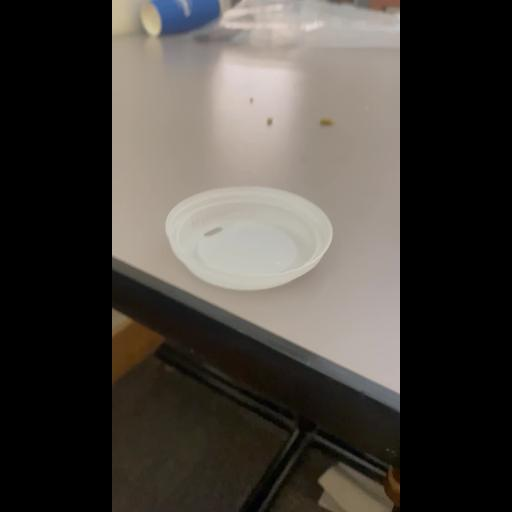lp_cup_lids: (165, 183, 335, 289)
lp_paper_cup: (141, 0, 220, 36)
